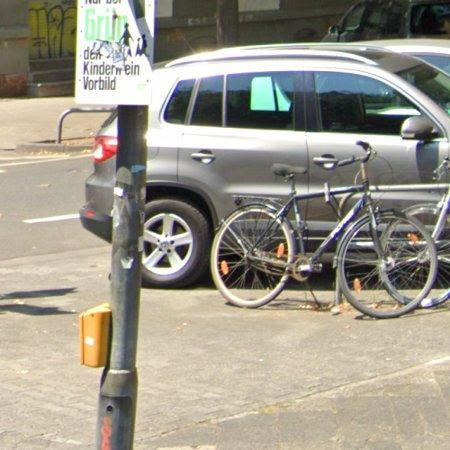bicycles: (211, 143, 438, 319)
